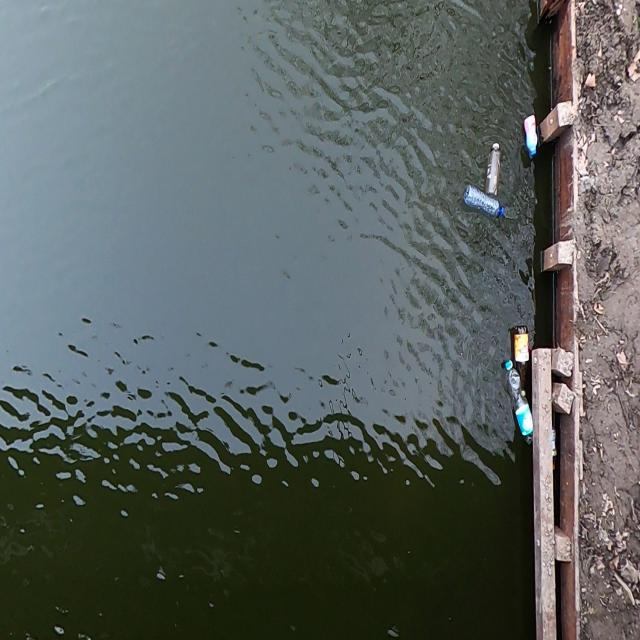Bouteille plastique: (459, 178, 509, 228), (484, 133, 506, 200), (524, 108, 542, 169)
